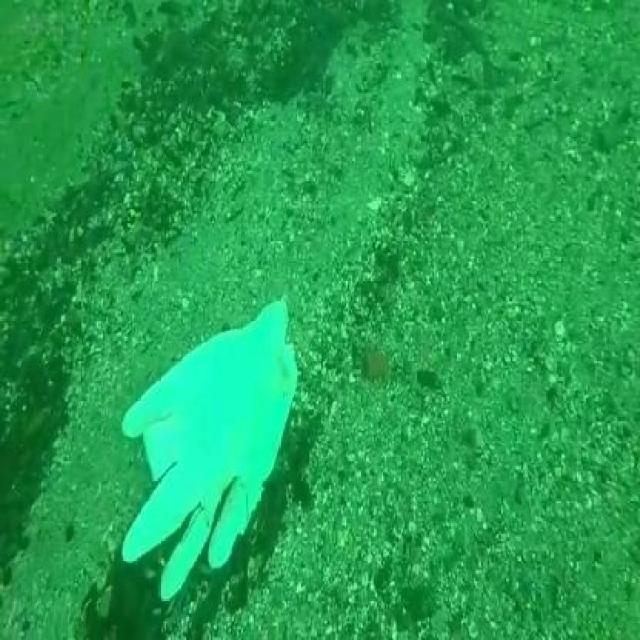glove: (112, 295, 303, 602)
